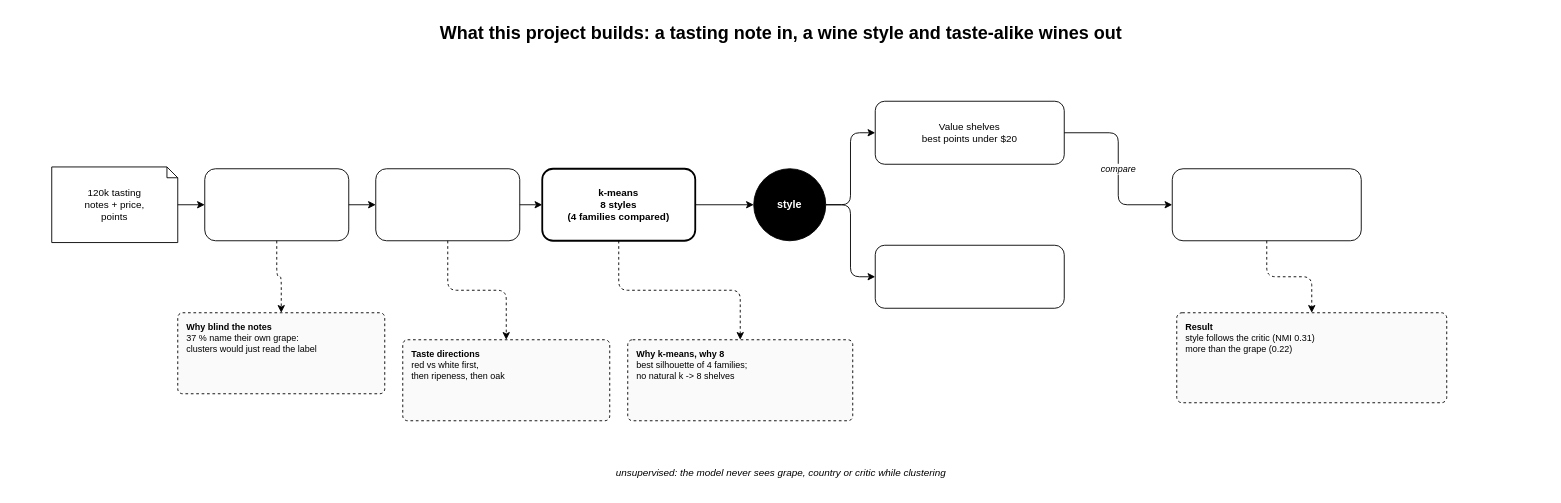
Some shapes in this 1561 by 503 pixel diagram are drawn without their labels. The box of each missing label's shape, as (x1, y1, x2, y2) in pixels:
Answer key check grape and taster (hidden until the end): (1171, 168, 1361, 241)
Blind the notes remove grape and country words: (204, 168, 349, 241)
Taste-alike finder any note -> 5 wines: (874, 244, 1064, 308)
TF-IDF + LSA 100 taste directions: (375, 168, 520, 241)
